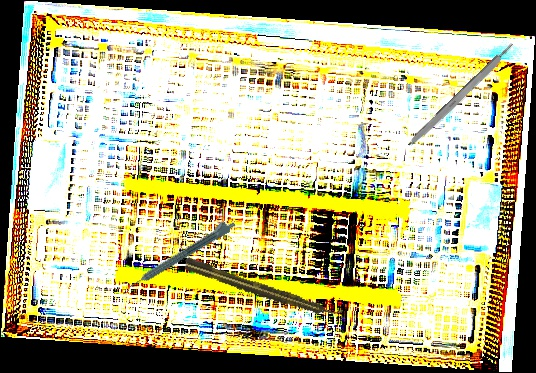Handpiece: (182, 255, 343, 324), (125, 215, 237, 291)
Scalpel Handle: (405, 42, 518, 150)
